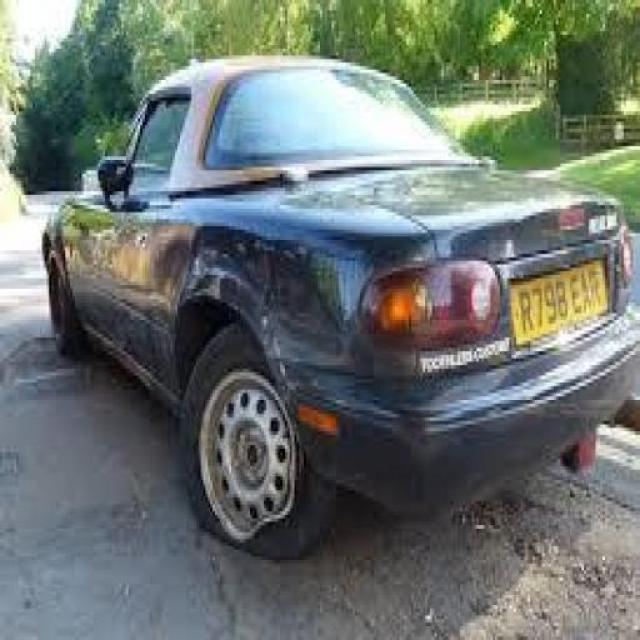dent: (260, 245, 370, 420)
